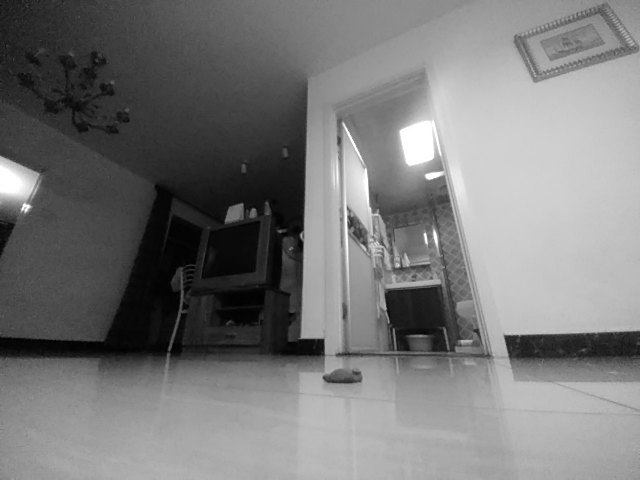curtain: (101, 183, 175, 356)
pet feces: (323, 363, 364, 387)
